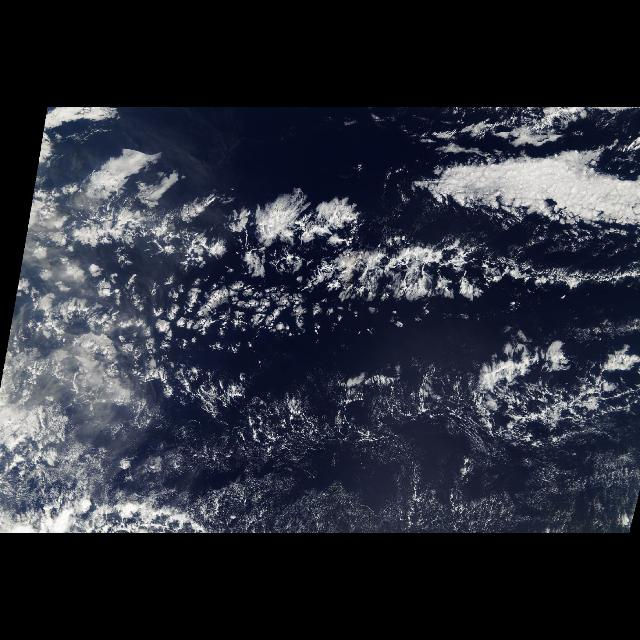Fish: (266, 239, 640, 323)
Gravel: (32, 282, 334, 404)
Sugar: (177, 435, 639, 533)
